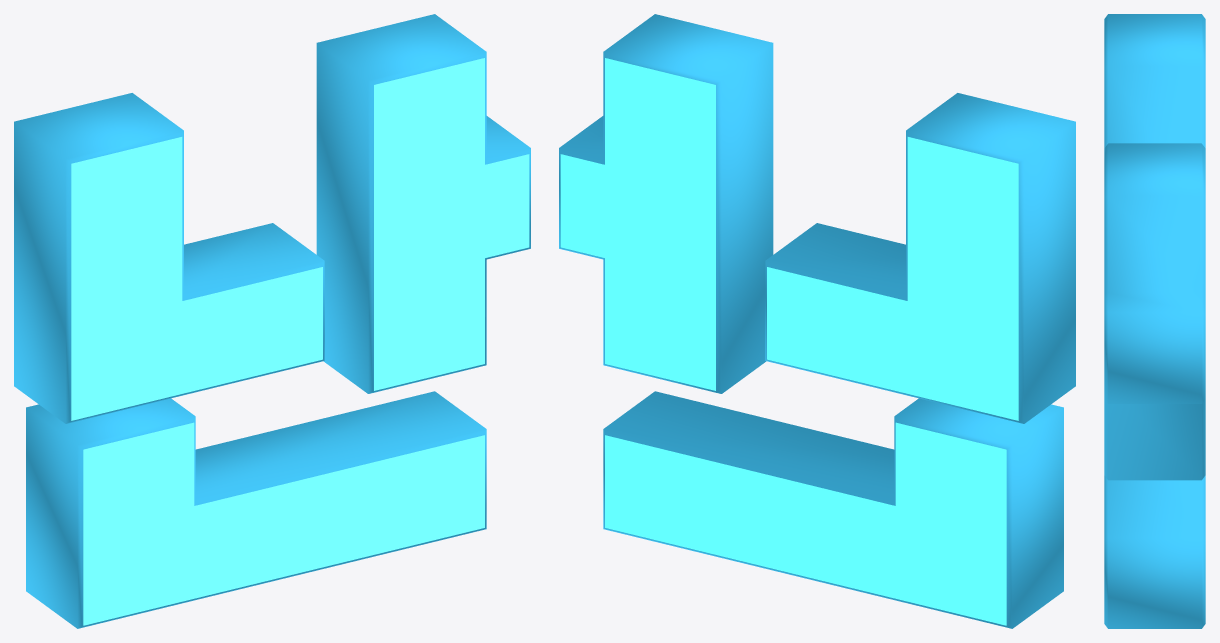
The picture shows the model from 3 angles, left to right: view 1: azimuth 30°, elevation 25°; view 2: azimuth 150°, elevation 25°; view 3: azimuth 270°, elevation 25°; orthographic projection. The views are drawn at different scales.
Visible parts, largest first — view 1: glyph; view 2: glyph; view 3: glyph.
Boxes of the visible parts, x1=… form: glyph: x1=14, y1=14, x2=530, y2=628; glyph: x1=559, y1=14, x2=1075, y2=628; glyph: x1=1104, y1=14, x2=1205, y2=628.
Bounding box in the file's own units: 0.0781 × 0.0766 × 0.0162.
